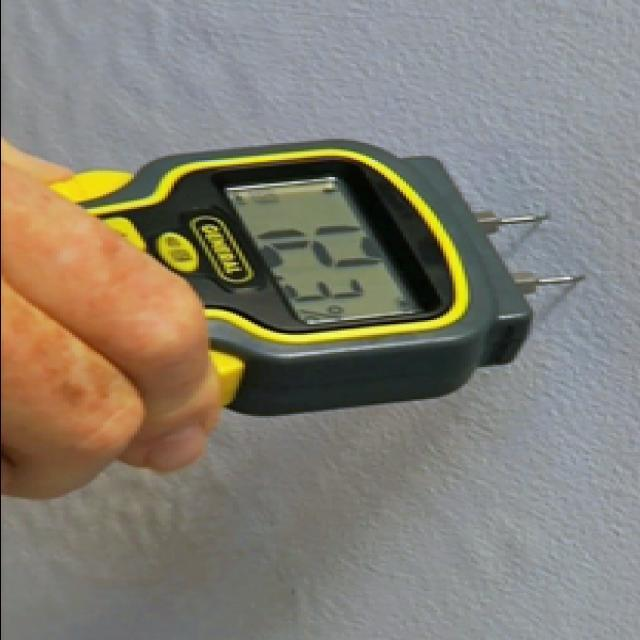leak: (2, 451, 348, 640), (3, 0, 298, 164), (391, 408, 550, 589)
